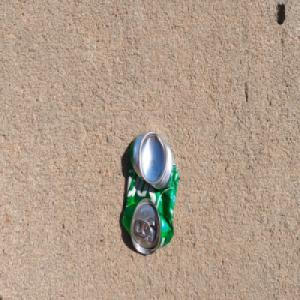SodaCan: (121, 129, 180, 256)
